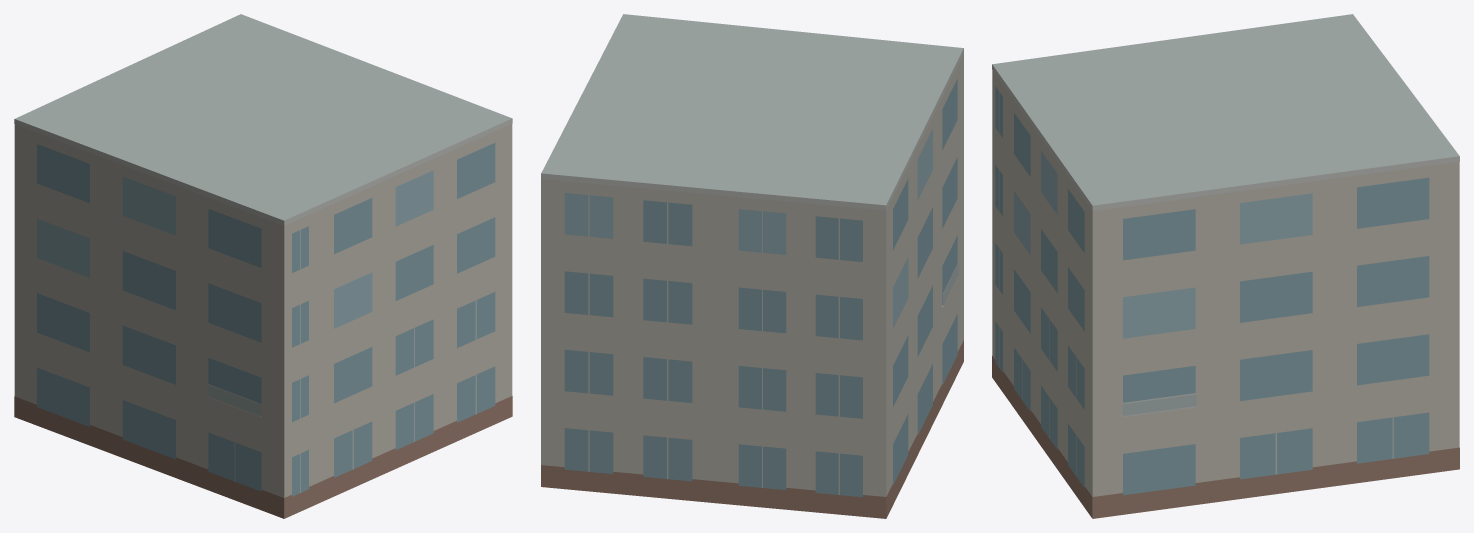
File: survey-upis-32835934.glb
3 renders of one model, left to right at view 1: azimuth 30°, elevation 25°; view 2: azimuth 150°, elevation 25°; view 3: azimuth 270°, elevation 25°, orthographic. The views are drawn at different scales.
Visible parts, largest first — view 1: survey-upis-32835934.tmp; view 2: survey-upis-32835934.tmp; view 3: survey-upis-32835934.tmp.
Part boxes in pixels (bbox=[...]): survey-upis-32835934.tmp: bbox=[14, 14, 512, 518]; survey-upis-32835934.tmp: bbox=[541, 14, 963, 518]; survey-upis-32835934.tmp: bbox=[992, 14, 1459, 518].
Size of the model in its own units: 18.39 by 14 by 18.96.
